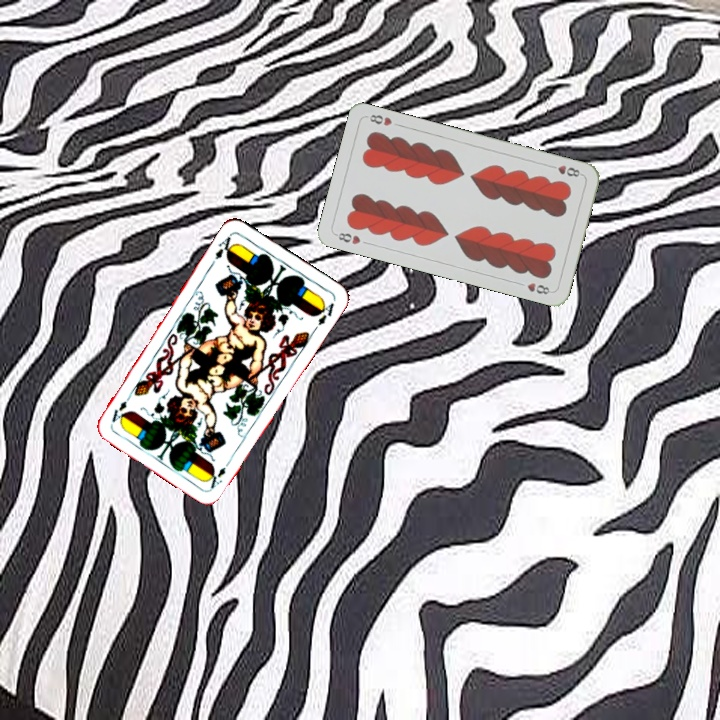EA: (203, 455, 234, 491), (211, 230, 238, 262)
H8: (545, 161, 585, 180), (331, 228, 363, 247)
